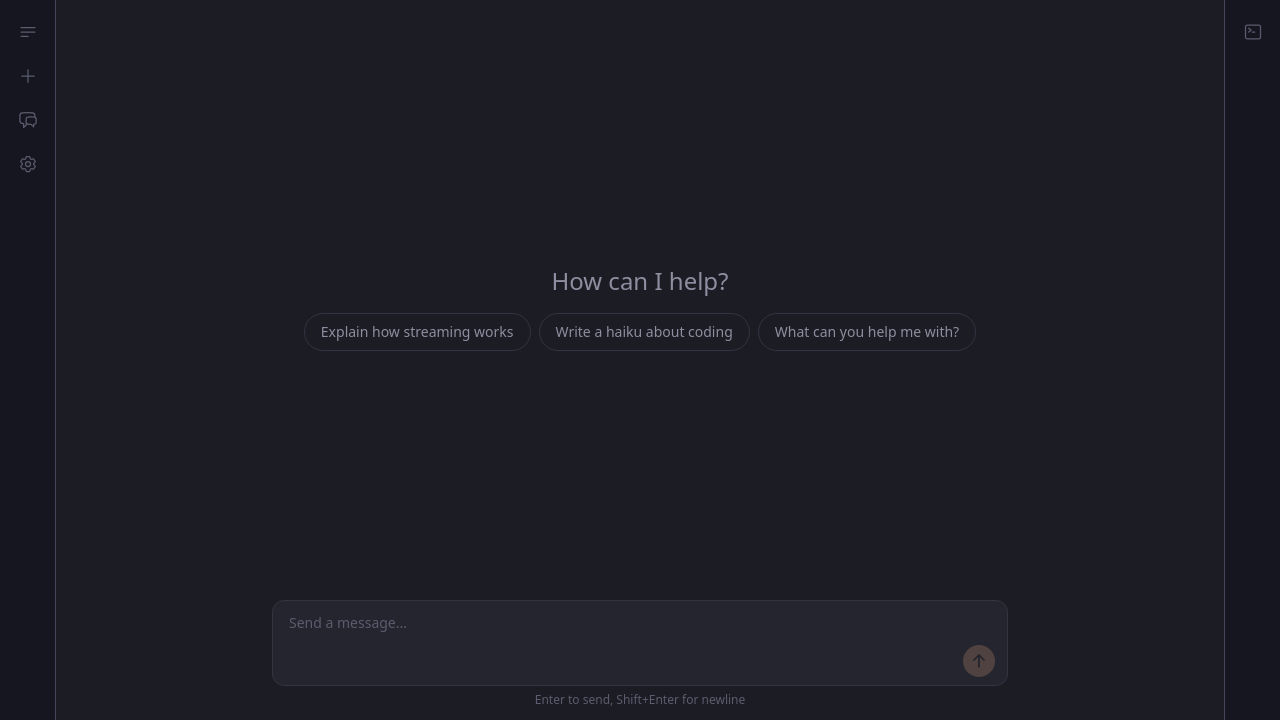
Test: ChatPage — handleNewChat › clears history when New Chat is clicked
This screenshot has width=1280, height=720.
Type "Hello" into the text box.
click(640, 623); type("Hello")  # box [273, 601, 1007, 645]
Then press Enter
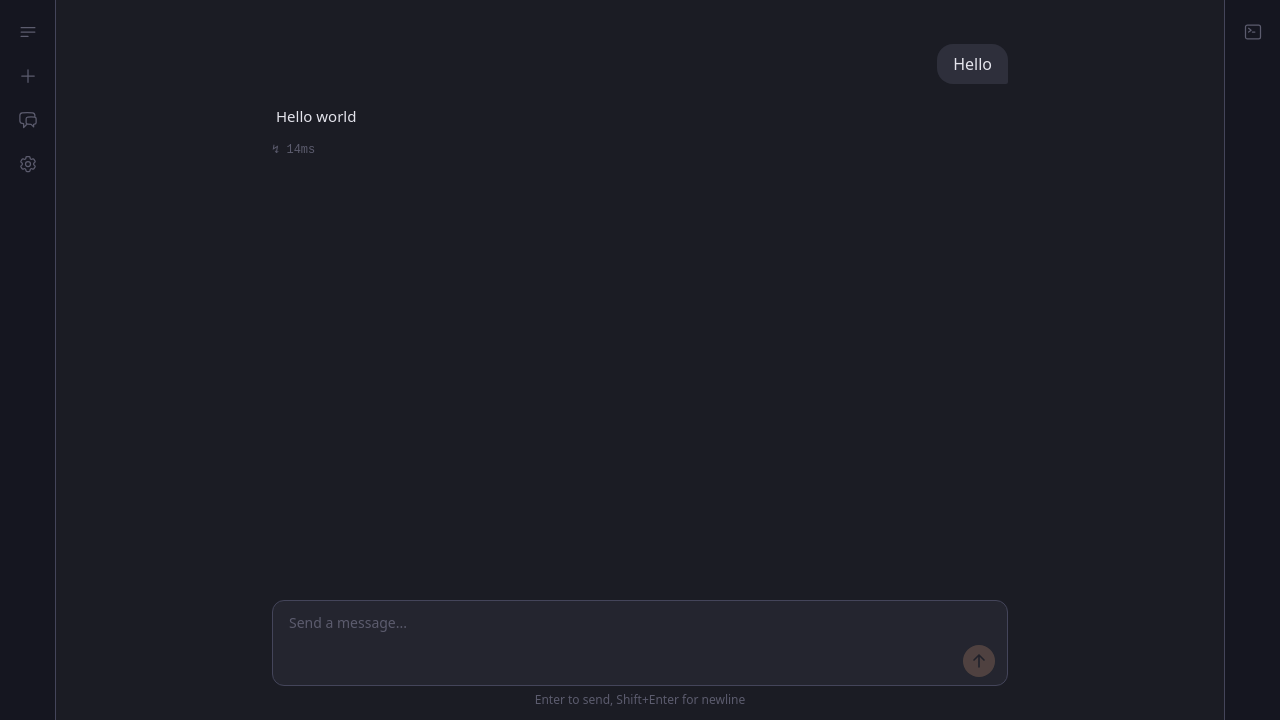
Check: the text "Hello world" is shown, box [276, 106, 356, 126]
Click the button named "new chat".
click(28, 76)  # box [8, 56, 47, 96]
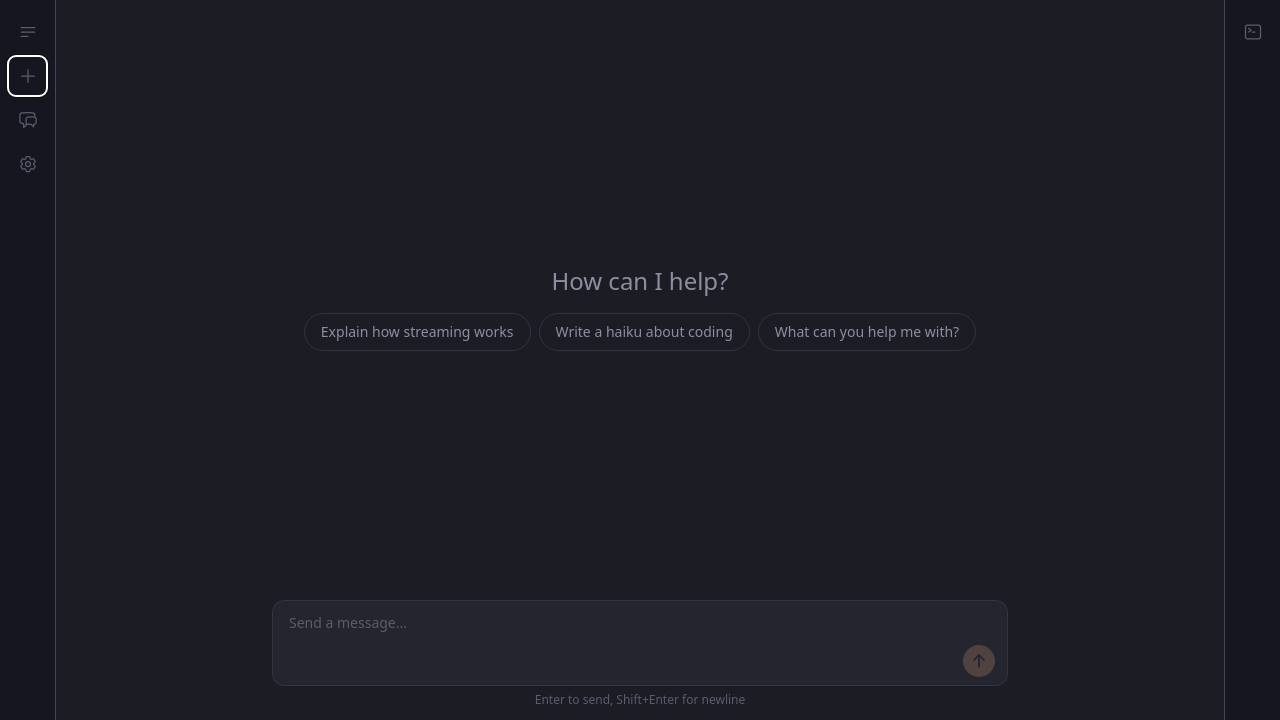
Check: the text "Hello world" is gone
Check: the text "Hello" is gone
